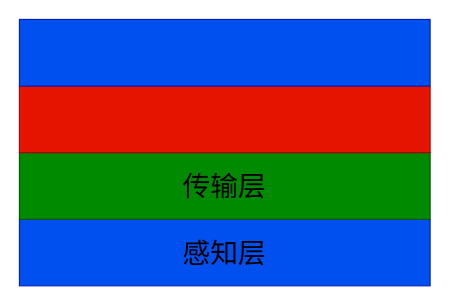
Some shapes in this 450 by 305 pixel diagram are drawn without their labels. The shapes that lost their labels are listed below. From the top down, each one's centre as x and y in pixels, then its label:
At [224,52]: "应用层".
At [224,119]: "平台层".
